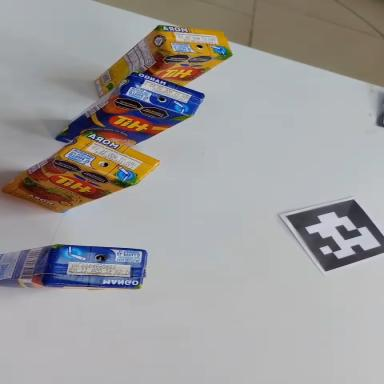HIT-MANGO: (45, 50, 210, 175), (0, 245, 147, 290)
HIT-MORA: (0, 110, 164, 231), (89, 16, 234, 97)
cara_F: (51, 72, 192, 176), (1, 141, 135, 235), (145, 28, 231, 100)
